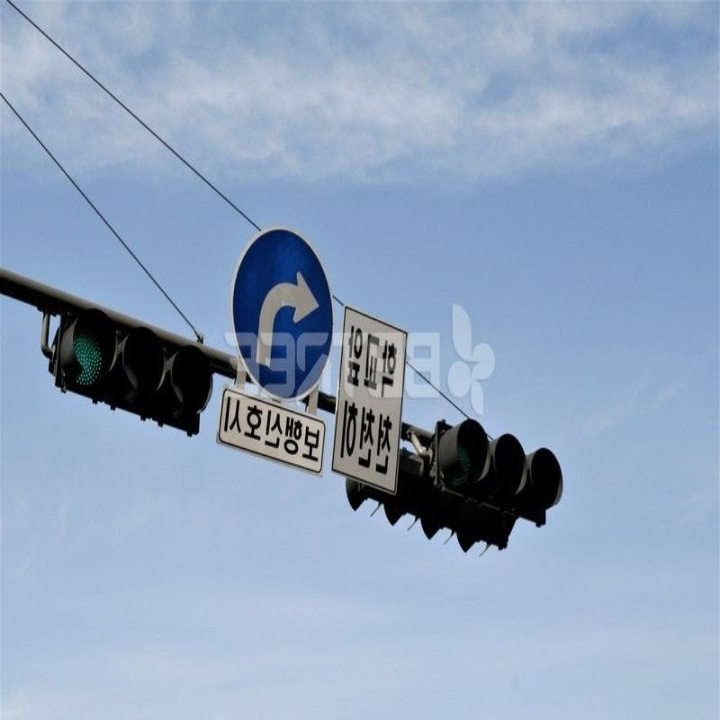right: (243, 261, 324, 375)
